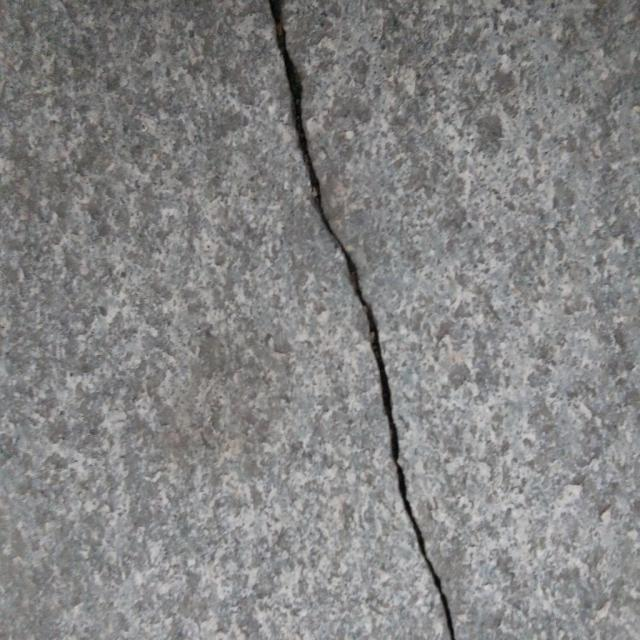cracks: (340, 278, 472, 640), (259, 0, 375, 314)
